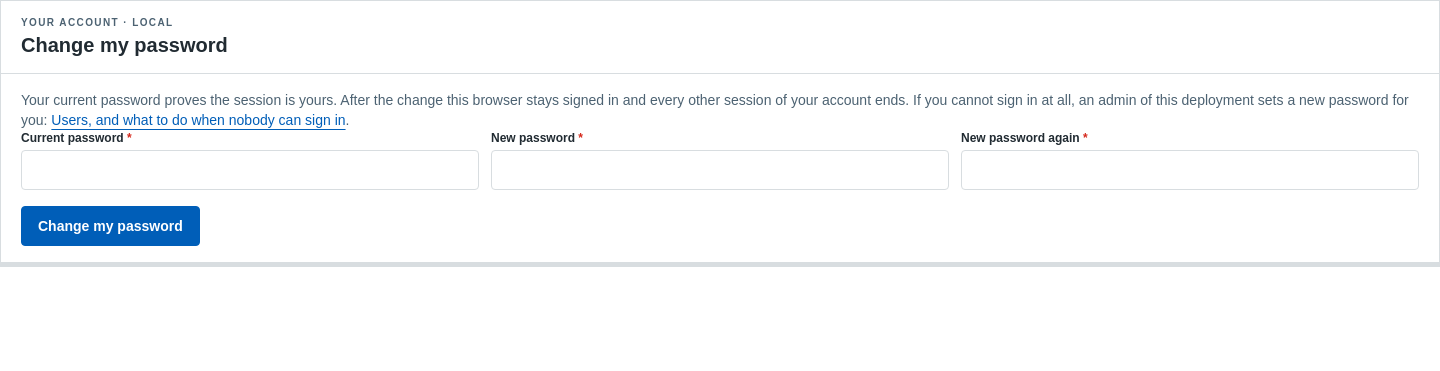
ChangeMyPasswordCard › a short new password and a mismatch are refused before the server is asked
The width and height of the screenshot is (1440, 371).
Type "the-current-password" into the password field with test id "my-password-current" at (250, 170), box [21,150,479,190]
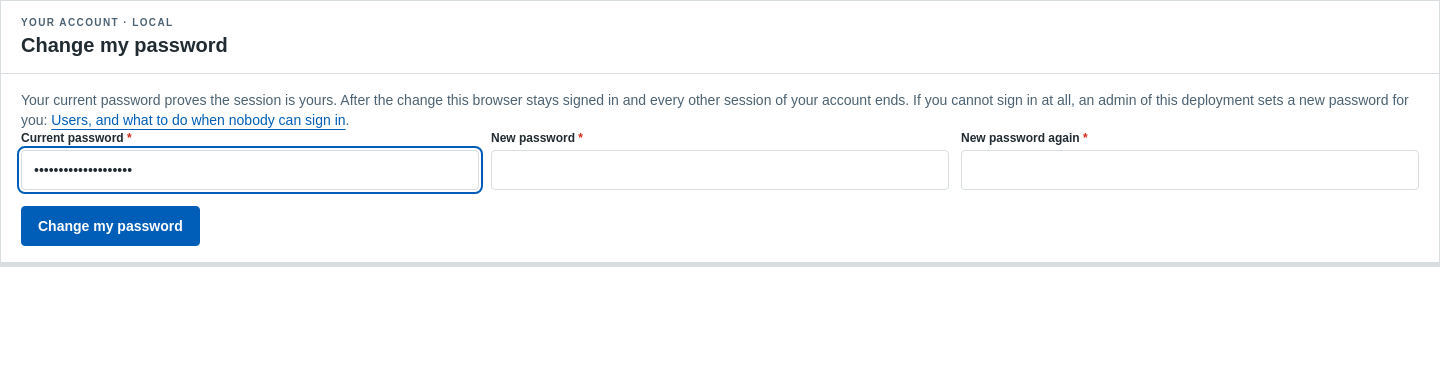
Type "short" into the password field with test id "my-password-new" at (720, 170), box [491,150,949,190]
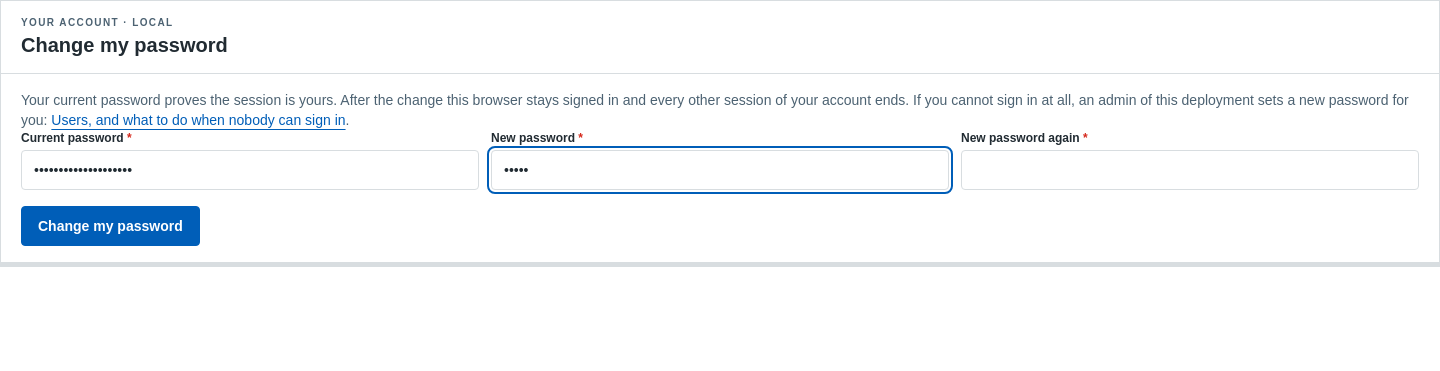
Type "short" into the password field with test id "my-password-again" at (1190, 170), box [961,150,1419,190]
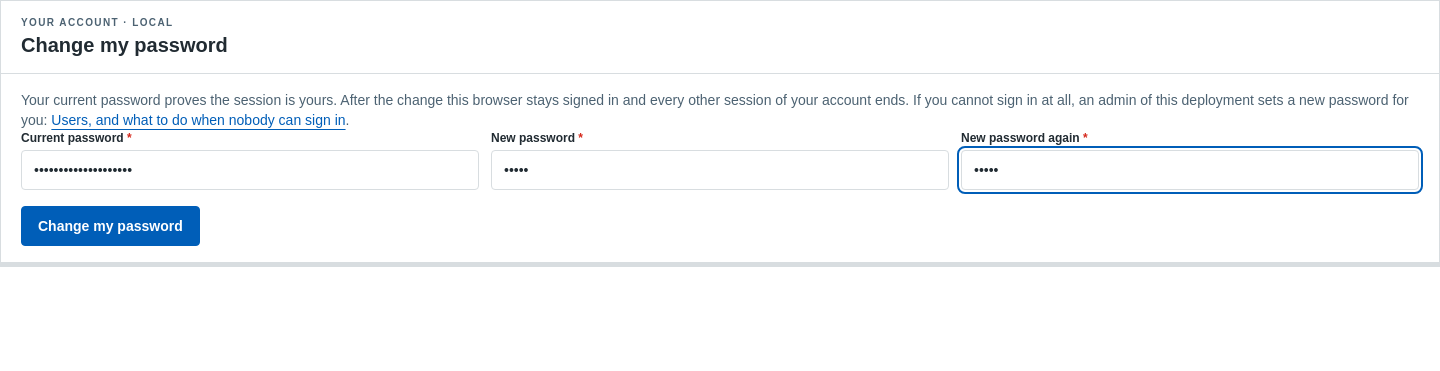
Click the button with test id "my-password-submit" at (110, 226), box [21,206,200,246]
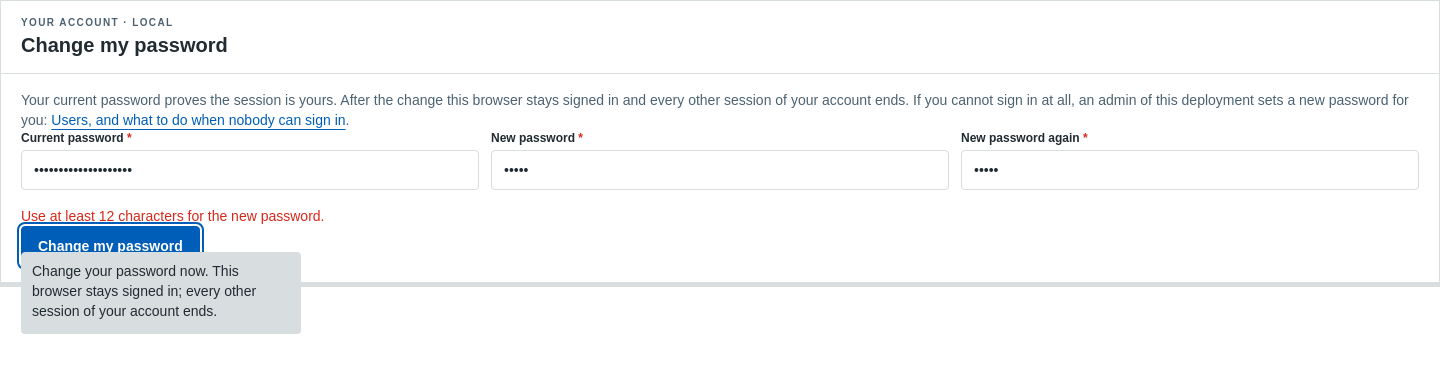
Expected: the message with test id "my-password-refused" reads "Use at least 12 characters for the new password.", [21,208,324,224]
Type "a-brand-new-password" into the password field with test id "my-password-new" at (720, 170), box [491,150,949,190]
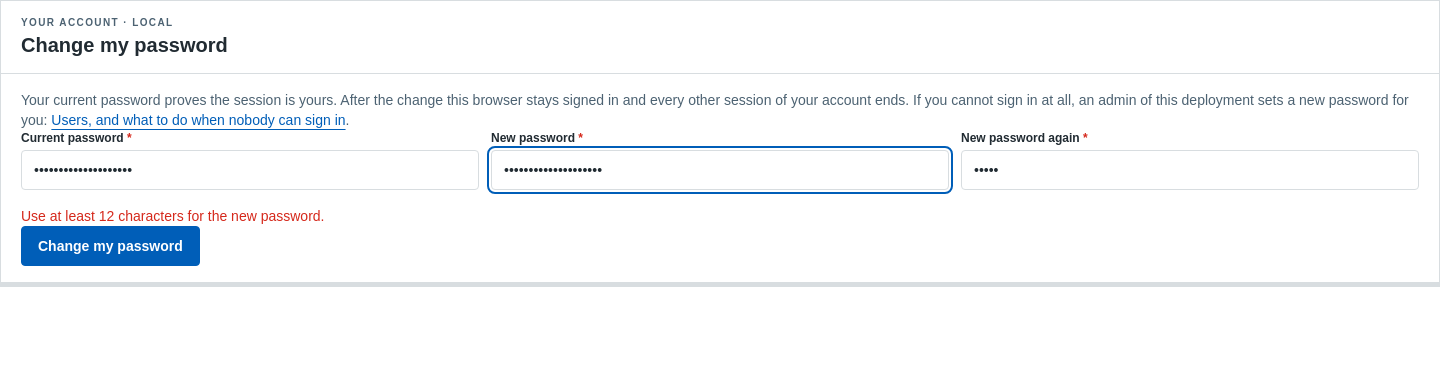
Click the button with test id "my-password-submit" at (110, 246), box [21,226,200,266]
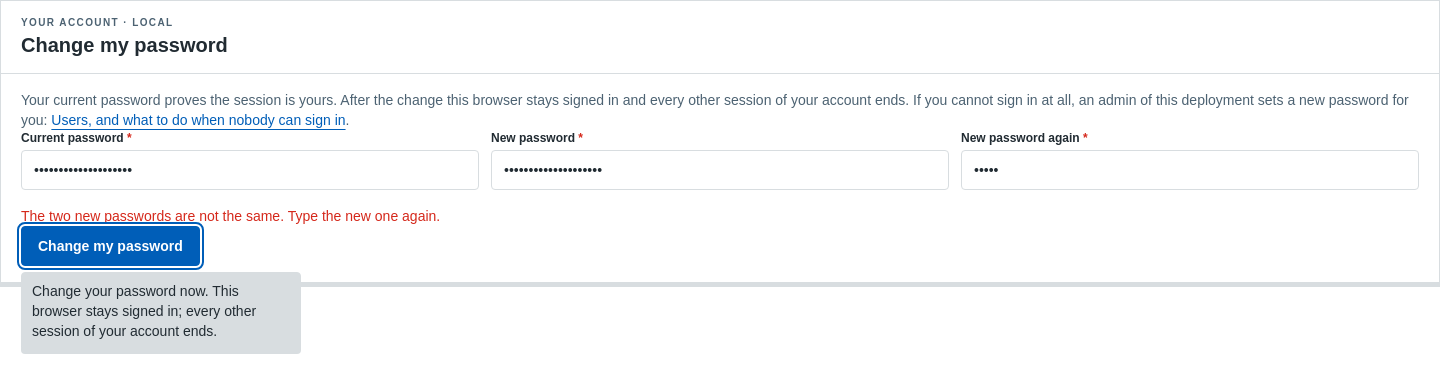
Expected: the message with test id "my-password-refused" shows "The two new passwords are not the same.", [21,208,440,224]
